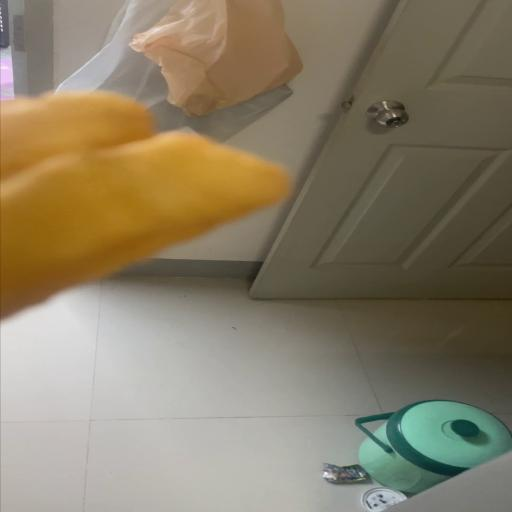street_golden_good: (2, 91, 286, 316)
